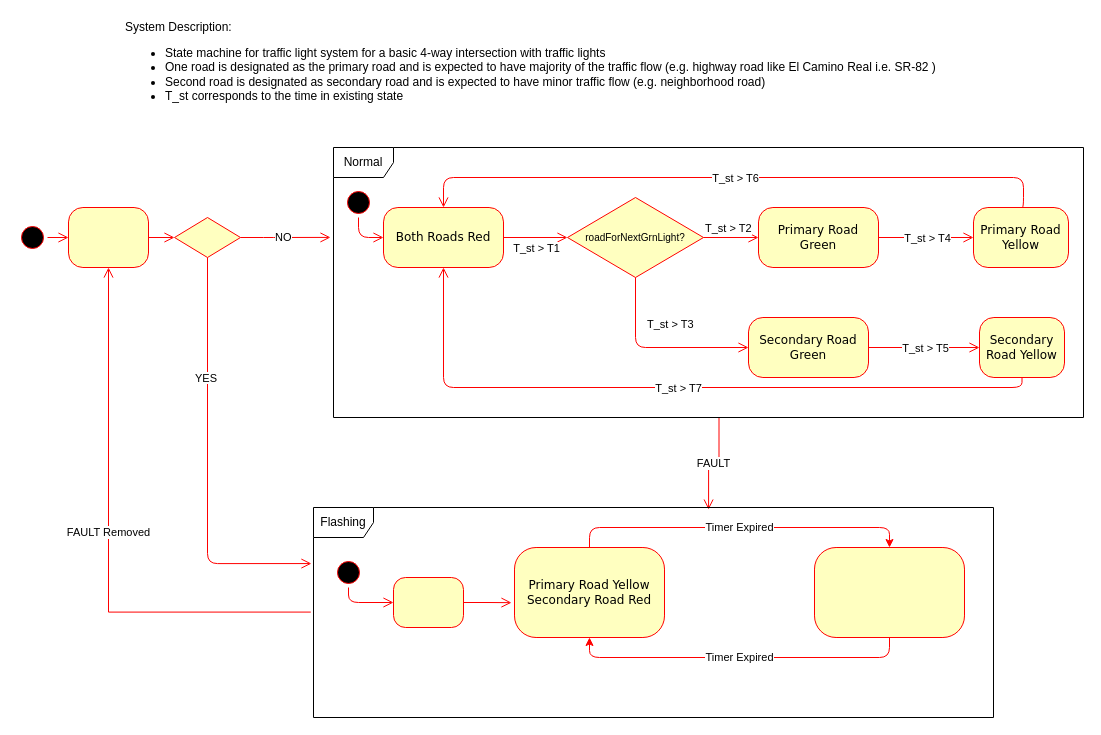
The diagram is 1101 pixels wide and 735 high, and some of its shapes have lost their labels. The centre of each missing label's shape, as x and y in pixels:
"Both Red" goes at [428,602].
"Both Roads Off" goes at [889,592].
"FAULT?" goes at [207,237].
"Initialize" goes at [108,237].
